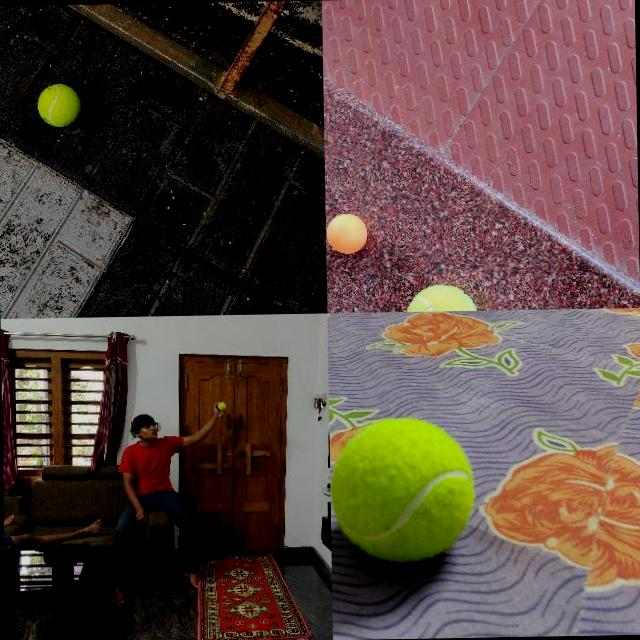Tennis Ball: (330, 416, 476, 564), (36, 82, 82, 127), (404, 284, 478, 310), (218, 402, 226, 409)
